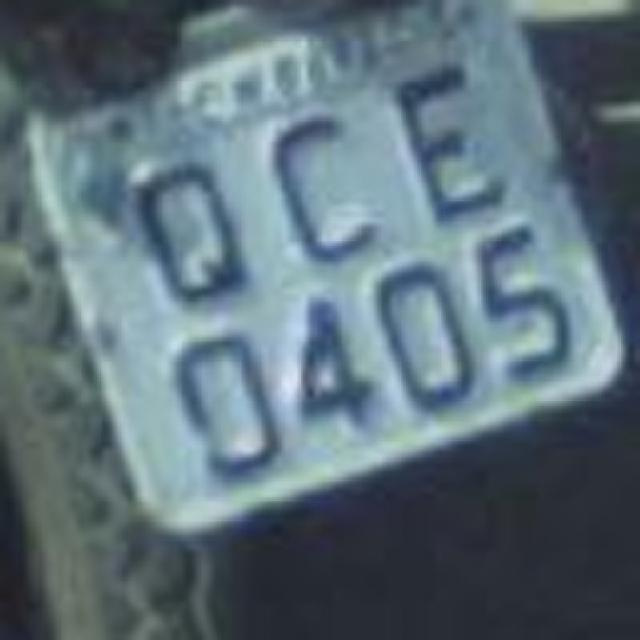0: (348, 235, 504, 420), (156, 308, 304, 500)
4: (276, 272, 404, 460)
5: (444, 211, 591, 384)
C: (249, 92, 396, 276)
O: (120, 132, 268, 328)
